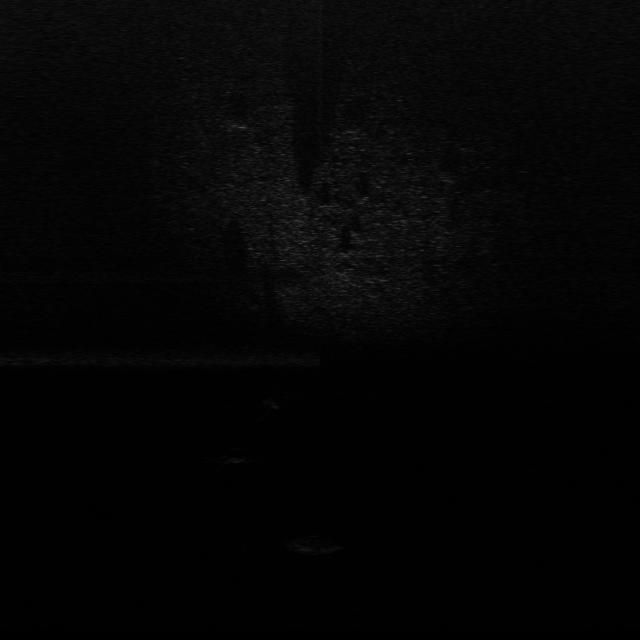ball: (222, 445, 249, 465)
circle cage: (280, 532, 346, 558)
human body: (258, 382, 282, 420)
